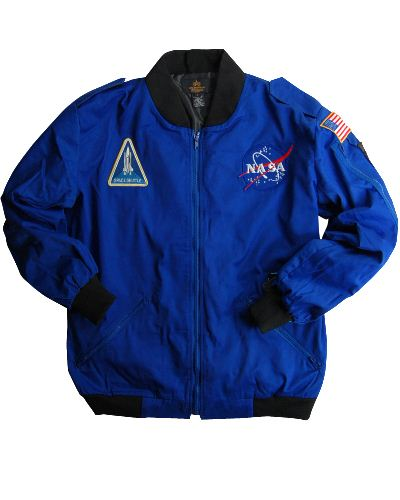NASA: (233, 135, 297, 196)
